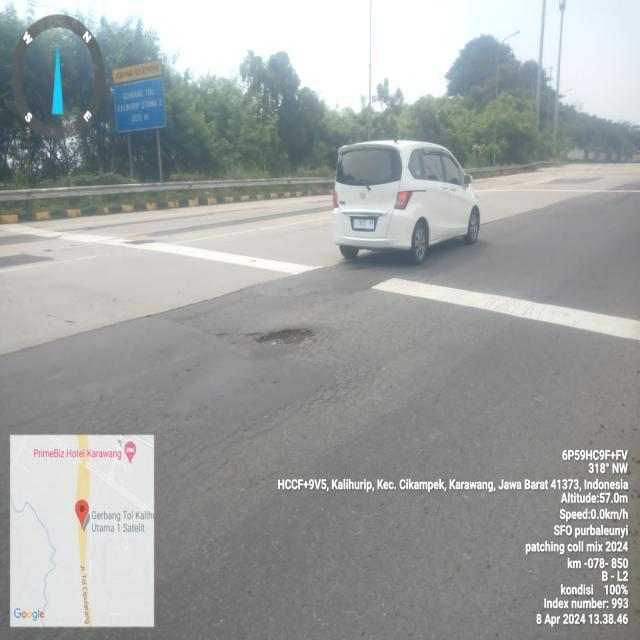Buraco: (252, 326, 323, 349)
